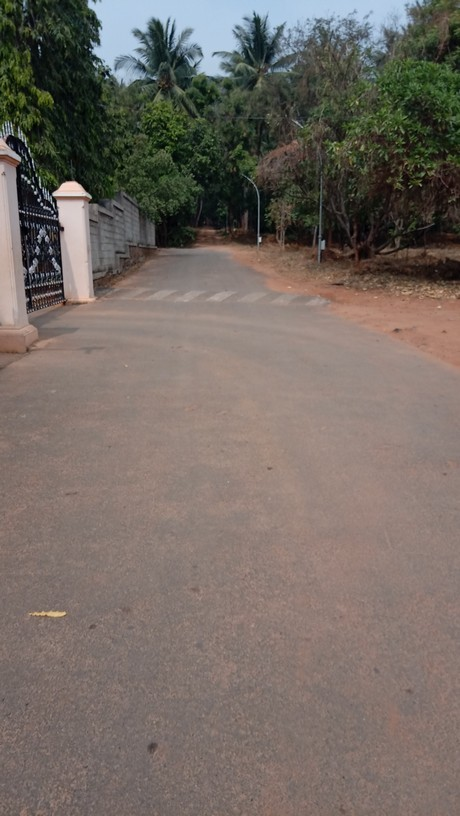bump: (100, 280, 334, 311)
